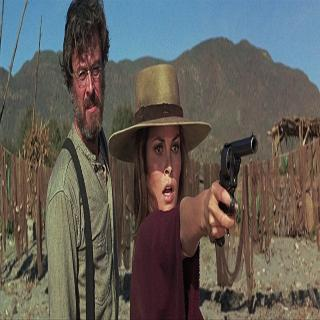gun: (210, 130, 260, 248)
